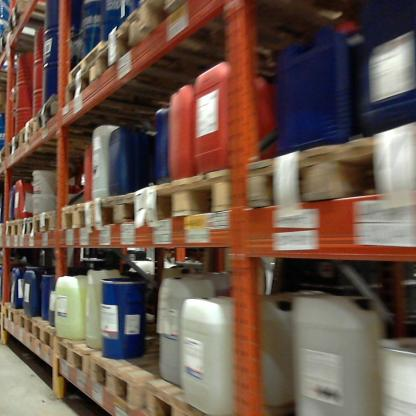pallet: (97, 6, 291, 127), (136, 0, 370, 80), (60, 60, 231, 135), (84, 334, 188, 411), (142, 144, 234, 231), (337, 114, 415, 214), (244, 139, 343, 209), (2, 2, 85, 68), (146, 370, 253, 414), (20, 115, 109, 155), (6, 132, 99, 169), (0, 146, 98, 178), (94, 180, 144, 236), (48, 327, 97, 382), (64, 35, 103, 80), (29, 313, 64, 357), (31, 202, 64, 241), (58, 200, 92, 230), (38, 88, 59, 132), (15, 304, 33, 345), (1, 216, 26, 242), (6, 300, 20, 327), (22, 215, 37, 239)
